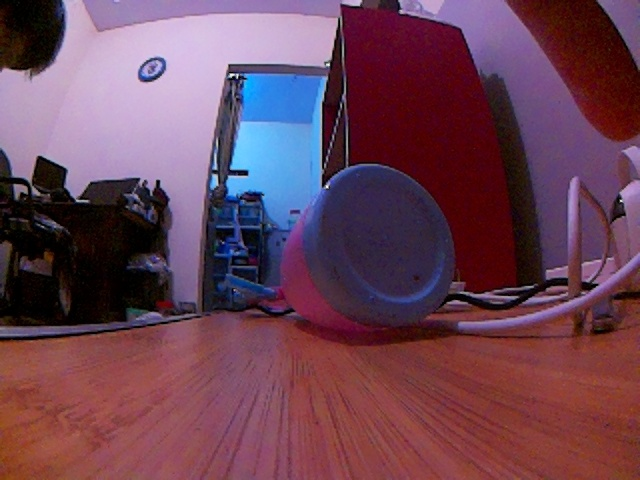korban: (275, 160, 467, 357)
